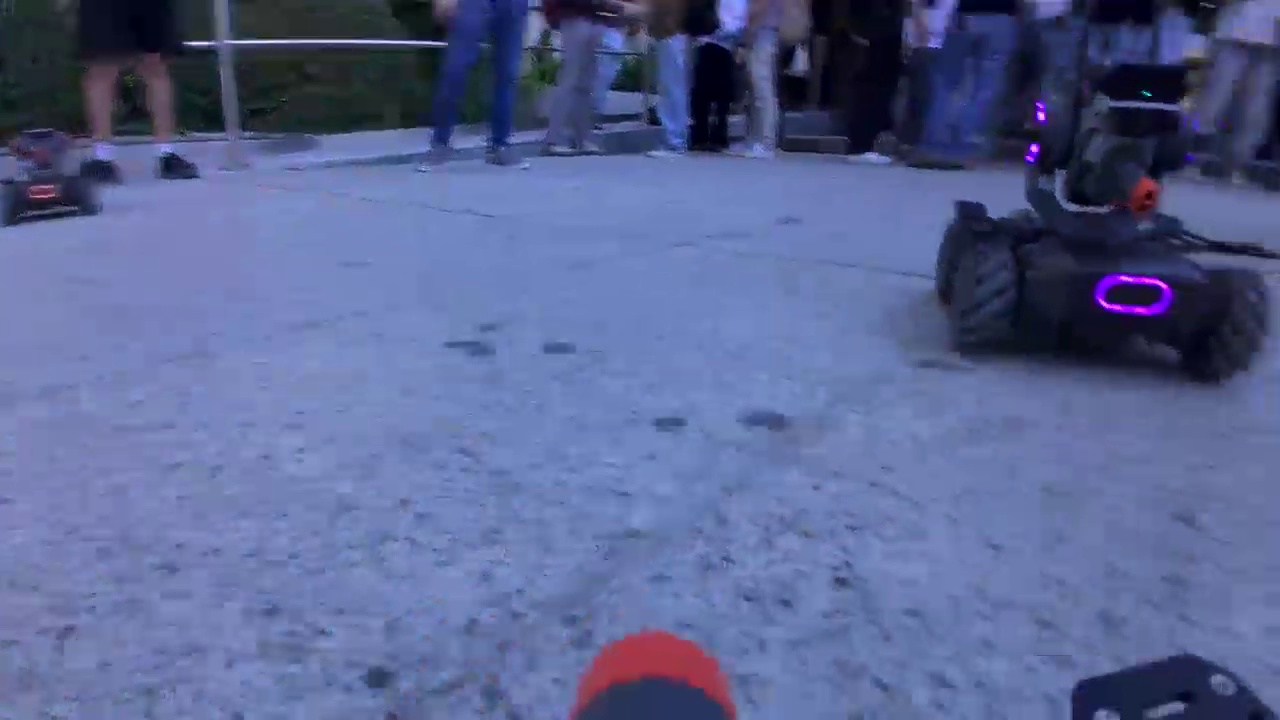robot: (934, 55, 1272, 390), (1, 124, 101, 224)
